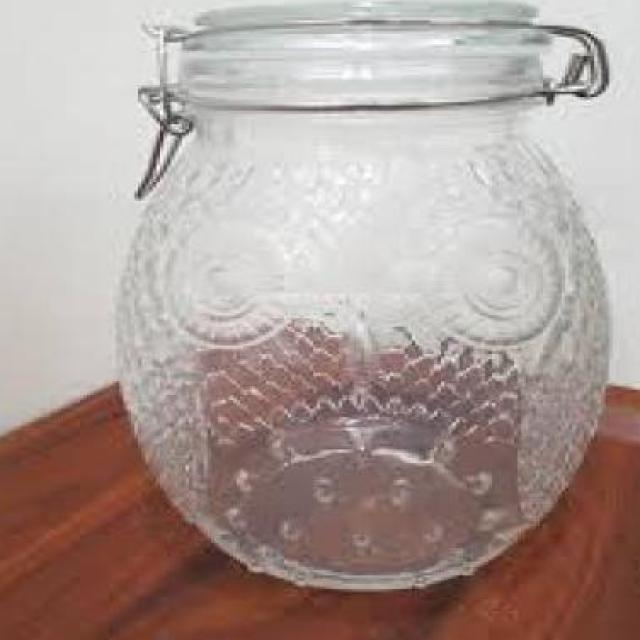kaca: (123, 2, 616, 589)
